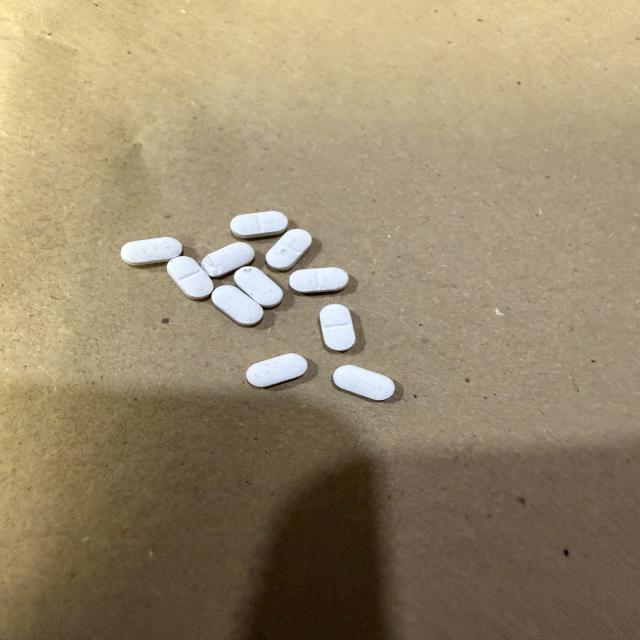pill: (333, 365, 394, 400), (212, 286, 263, 326), (246, 354, 307, 387), (167, 257, 213, 299), (234, 267, 282, 307), (201, 242, 254, 277), (266, 229, 311, 270), (121, 237, 182, 265), (320, 304, 355, 351), (231, 211, 288, 238), (289, 268, 348, 293)
